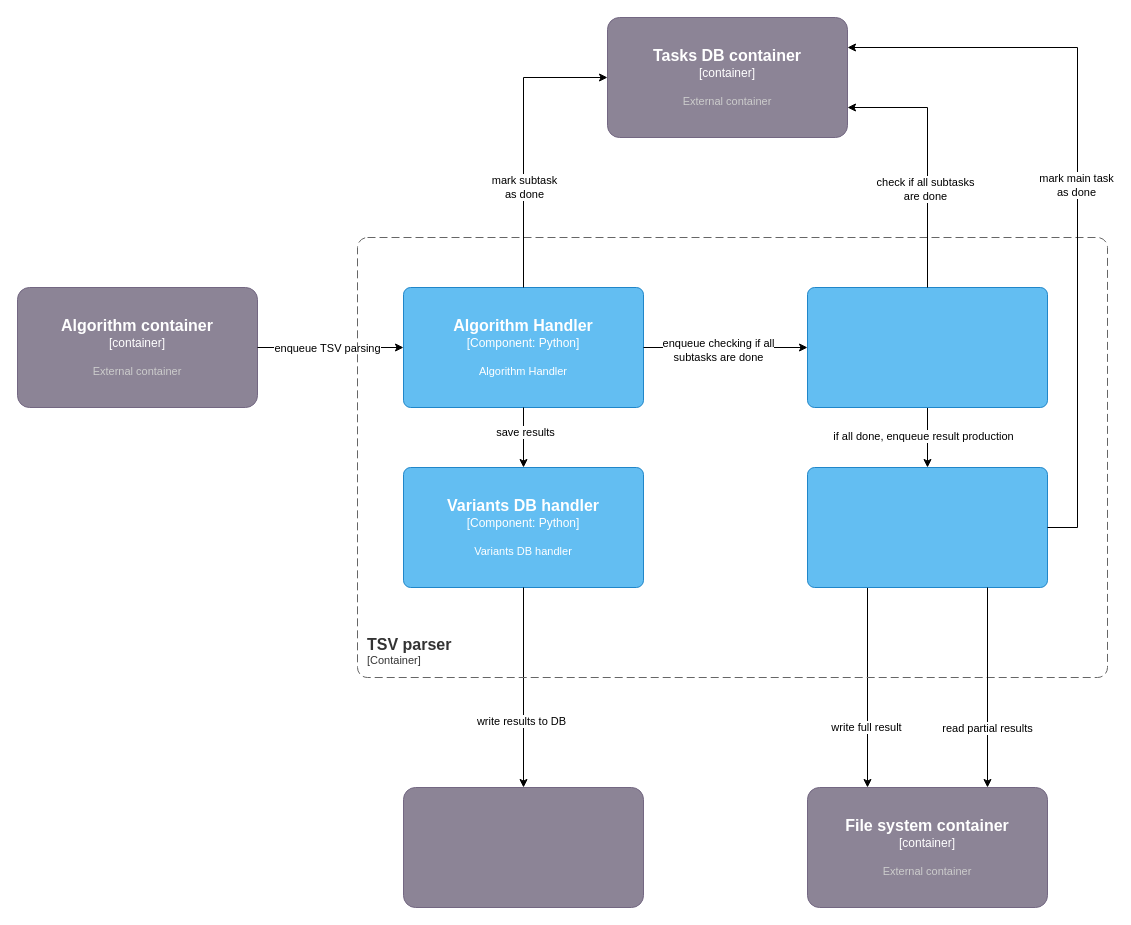
This 1131x925 diagram has some shape labels left out. The centre of each missing label's shape, as x and y in pixels:
"Results DB handler [Component: Python] Results DB handler" belongs at point (927, 347).
"Results producer [Component: Python] Results producer(TSV files)" belongs at point (927, 527).
"Variants DB container [container] External container" belongs at point (523, 847).
